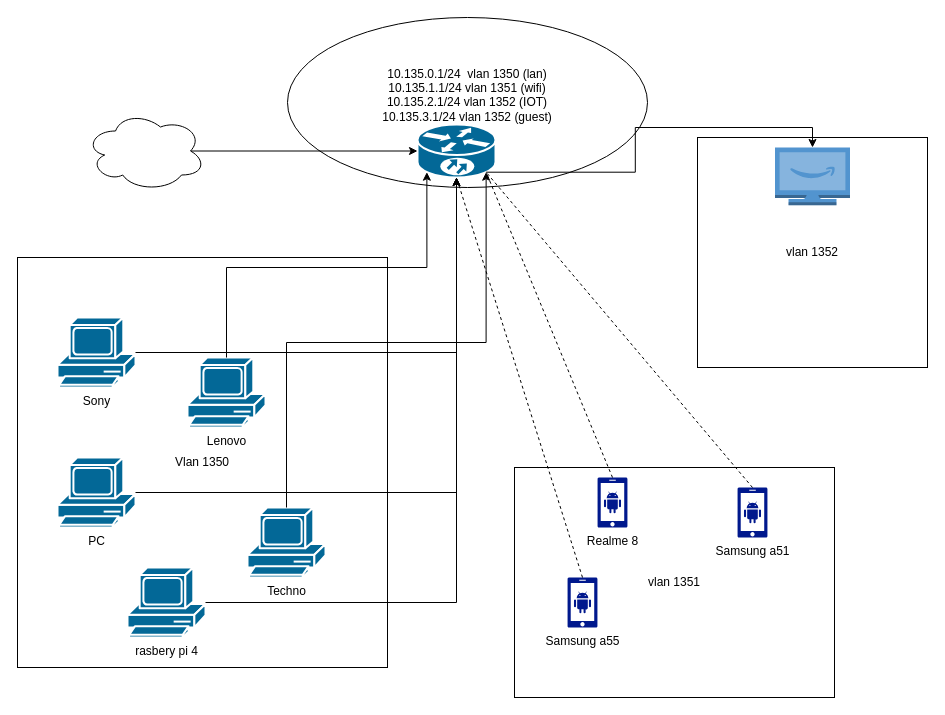
This 945x715 diagram has some shape labels left out. The shapes that lost their labels are listed below. From the top down, each one's centre as x and y in pixels, then its label:
At point 145,150: "Rostelecom".
At point 812,175: "TV".
